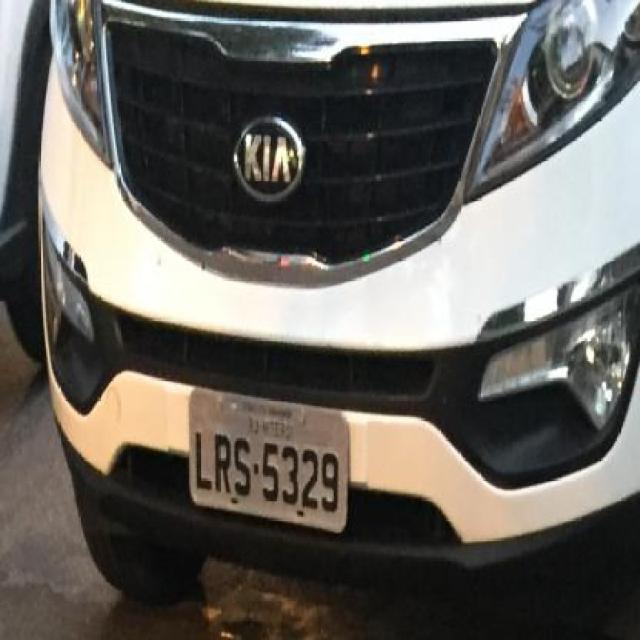old_plate: (182, 383, 356, 541)
